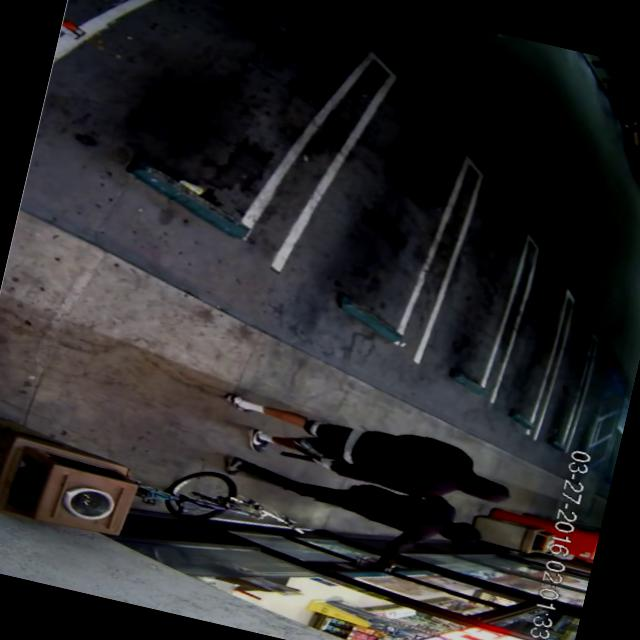long weapon: (269, 442, 412, 488)
